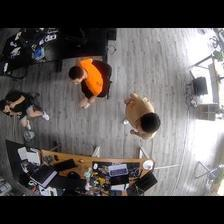normal: (64, 55, 110, 113), (1, 89, 53, 139), (122, 88, 162, 146)
